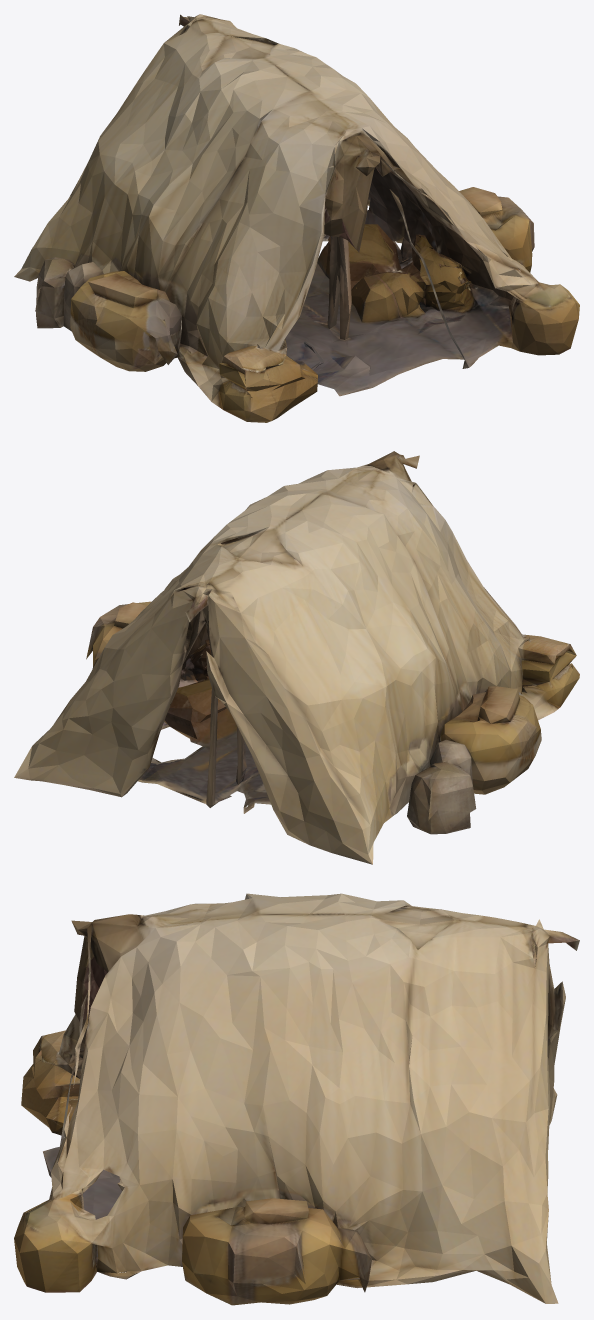
Rendered from Desert_Refuge_1117205847_texture.fbx.
3 renders of one model, top to bottom at view 1: azimuth 30°, elevation 25°; view 2: azimuth 150°, elevation 25°; view 3: azimuth 270°, elevation 25°, orthographic. The views are drawn at different scales.
Visible parts, largest first — view 1: temp; view 2: temp; view 3: temp.
Part boxes in pixels (left/top/right/bottom): temp: left=14, top=14, right=579, bottom=422; temp: left=14, top=451, right=579, bottom=864; temp: left=14, top=893, right=579, bottom=1305.
Bounding box in the file's own units: 188 × 100 × 178.
Materials: 1 (1 with a texture image).
